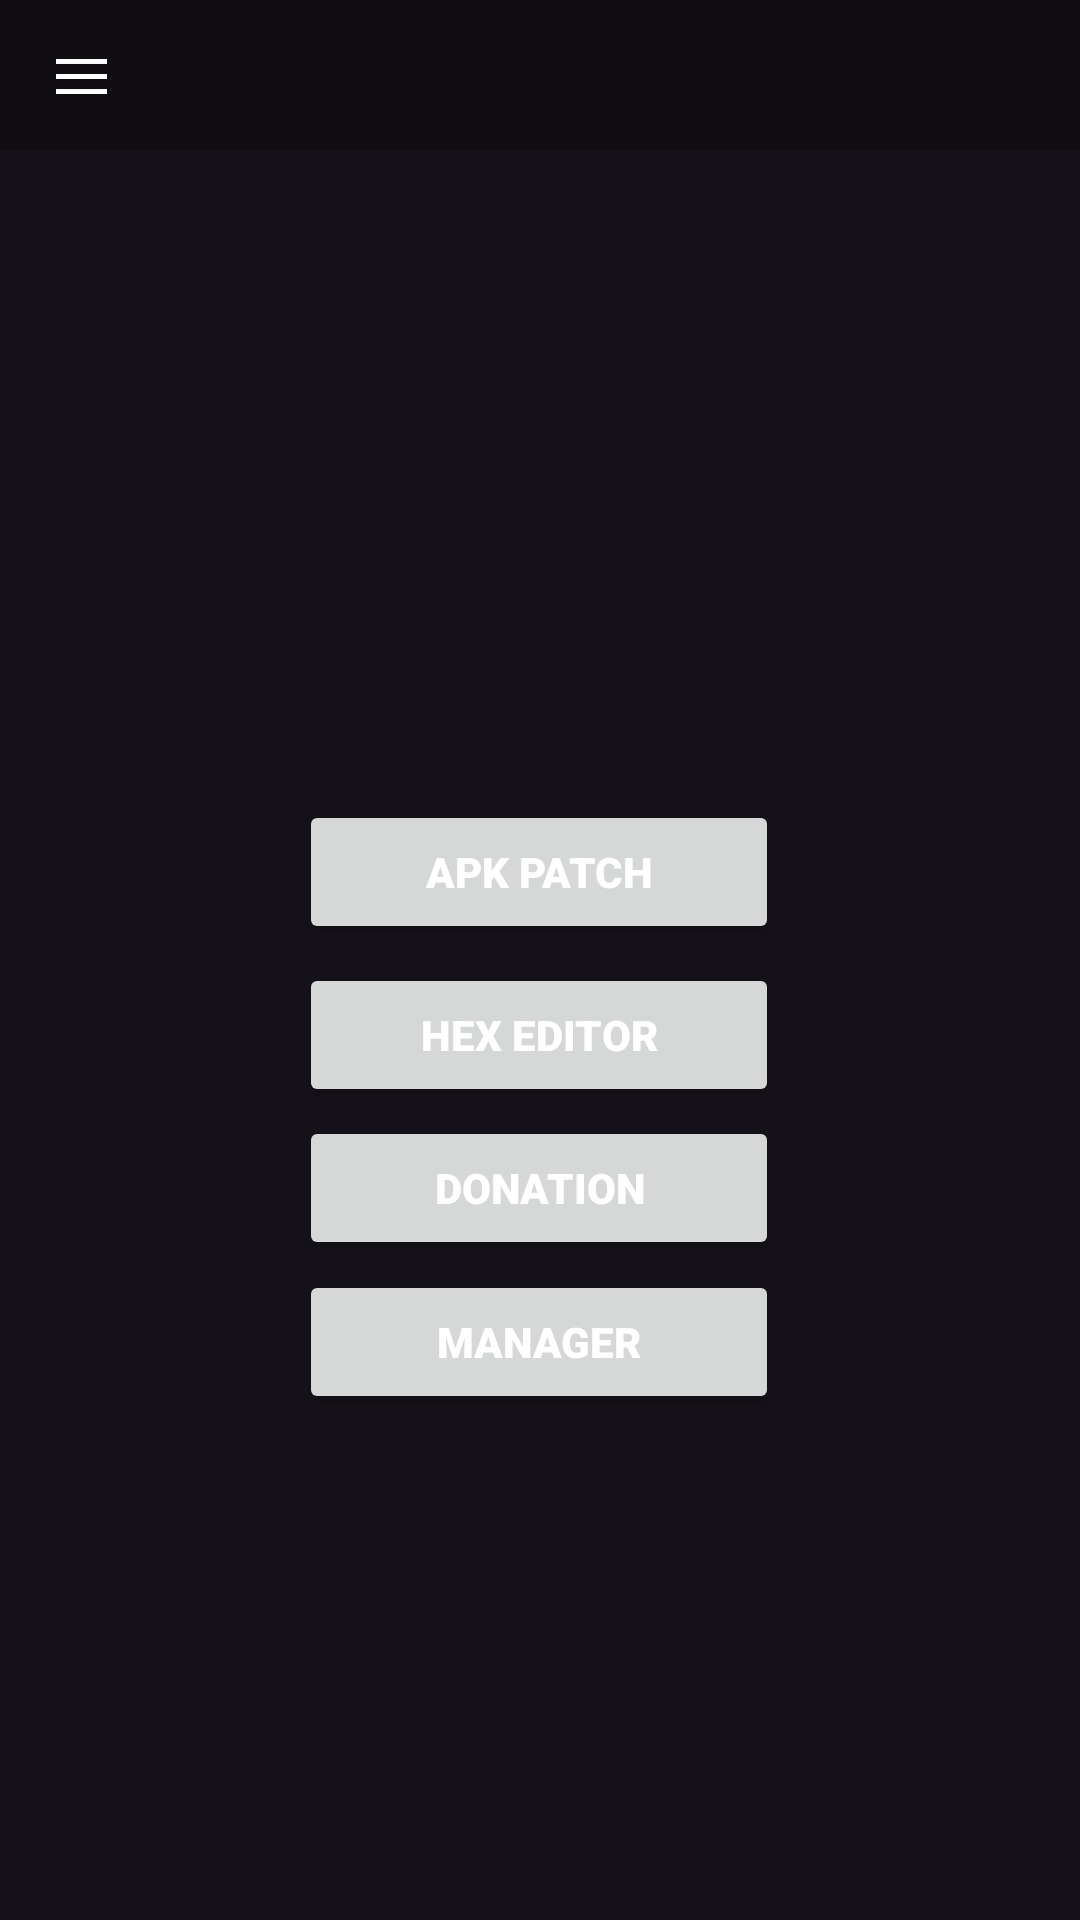

Locate icon controls on the screen. Image size 1080*1920, boxes as [left=x1, top=y1, right=x2, bottom=y2].
menu: [left=56, top=59, right=107, bottom=94]
